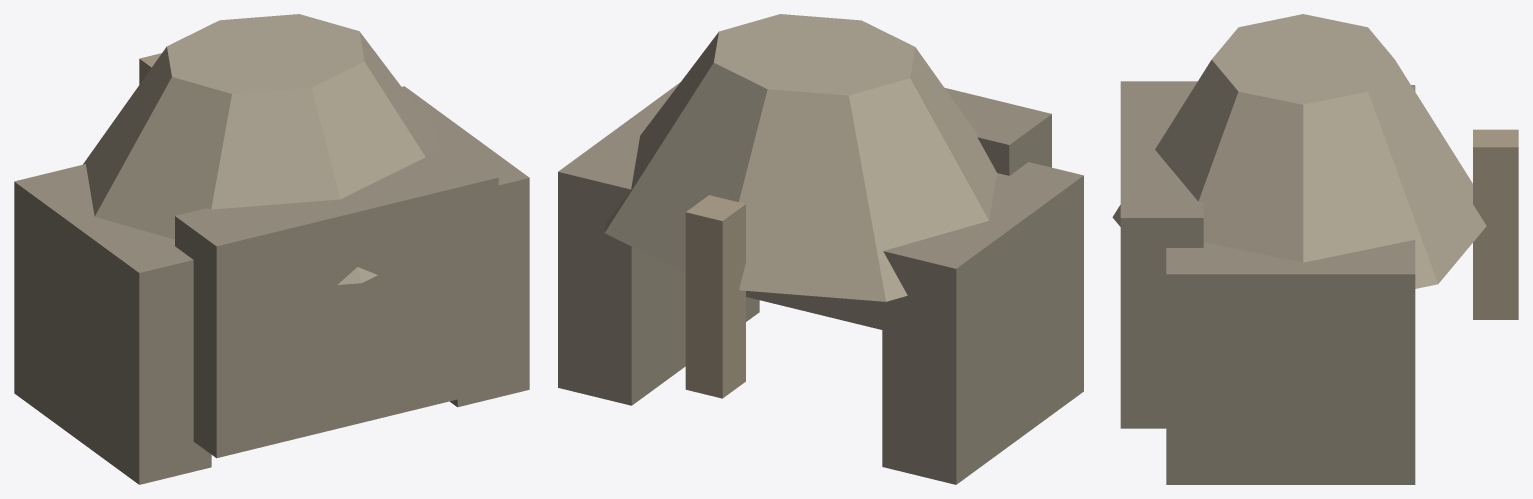
The model's file is Pawn_Helmet.fbx.
3 renders of one model, left to right at view 1: azimuth 30°, elevation 25°; view 2: azimuth 150°, elevation 25°; view 3: azimuth 270°, elevation 25°, orthographic. The views are drawn at different scales.
Parts seen in each view (by area): view 1: Pawn_Helmet; view 2: Pawn_Helmet; view 3: Pawn_Helmet.
Part boxes in pixels (x1,y1,x2,y2): Pawn_Helmet: (14,14,529,484); Pawn_Helmet: (558,14,1083,484); Pawn_Helmet: (1112,14,1518,484).
Size of the model in its own units: 0.54 by 0.44 by 0.4895.
